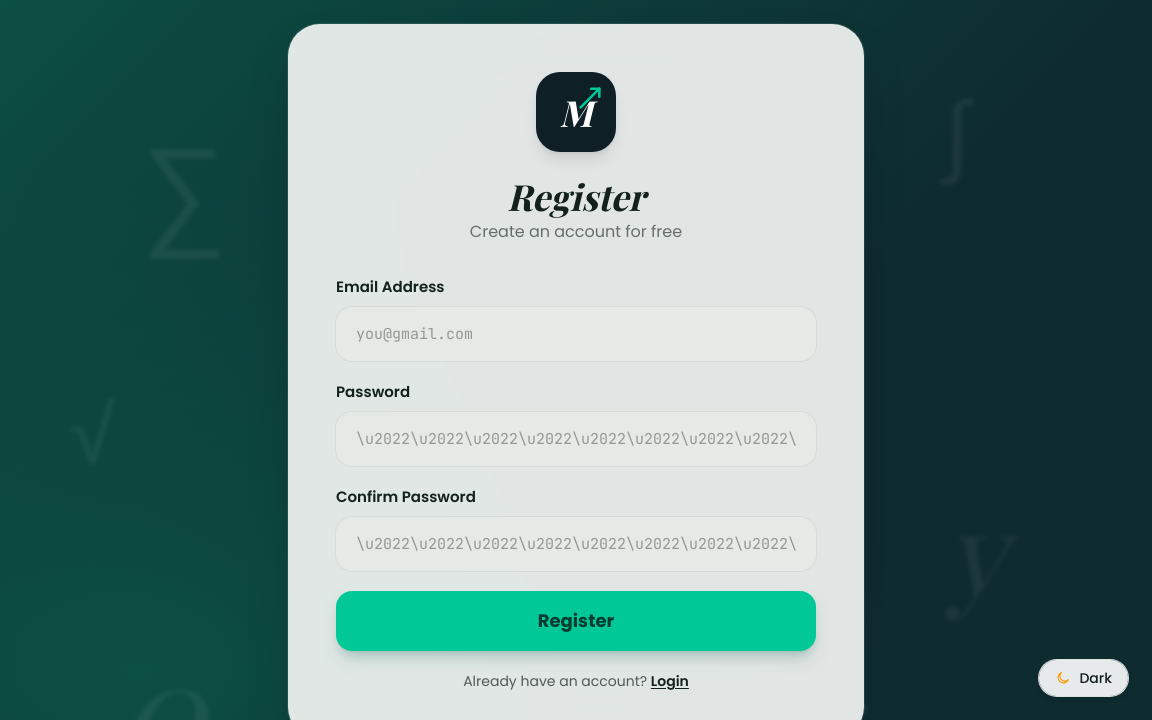
it: Register Page › shows error when password is empty
The width and height of the screenshot is (1152, 720).
Type "test@email.com" into the field labelled "Email Address".
click(576, 334); type("test@email.com")  # box [336,306,816,361]
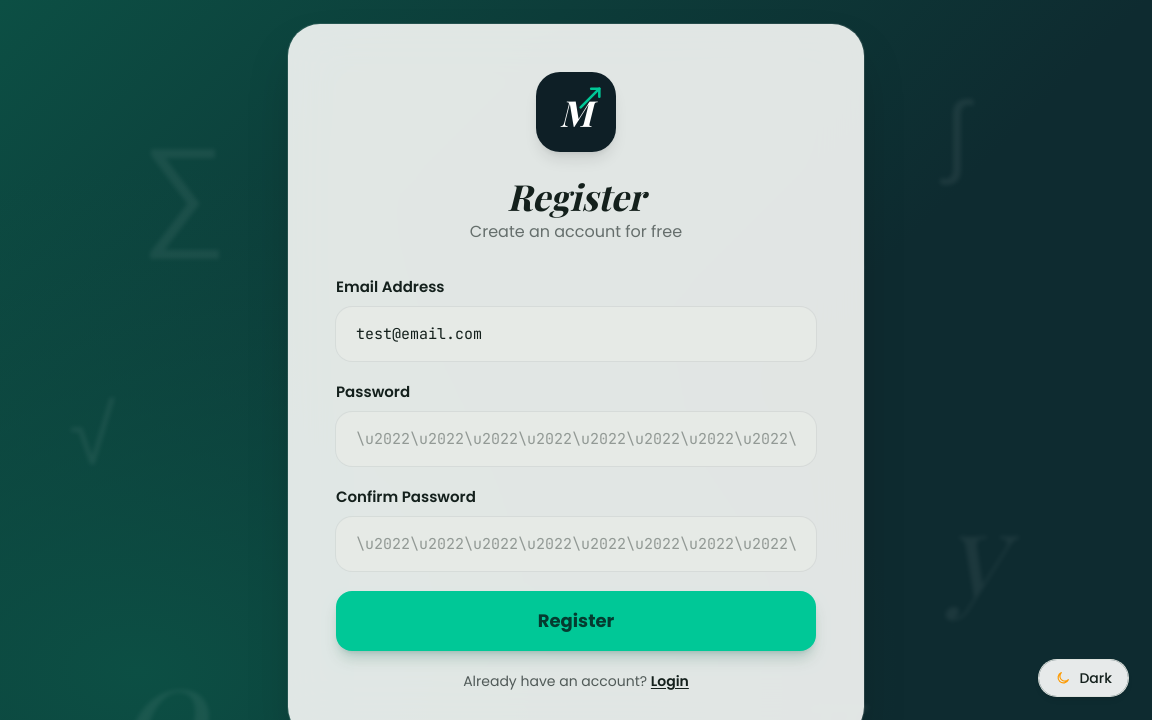
Click the button "Register".
click(576, 621)  # box [336,591,816,651]
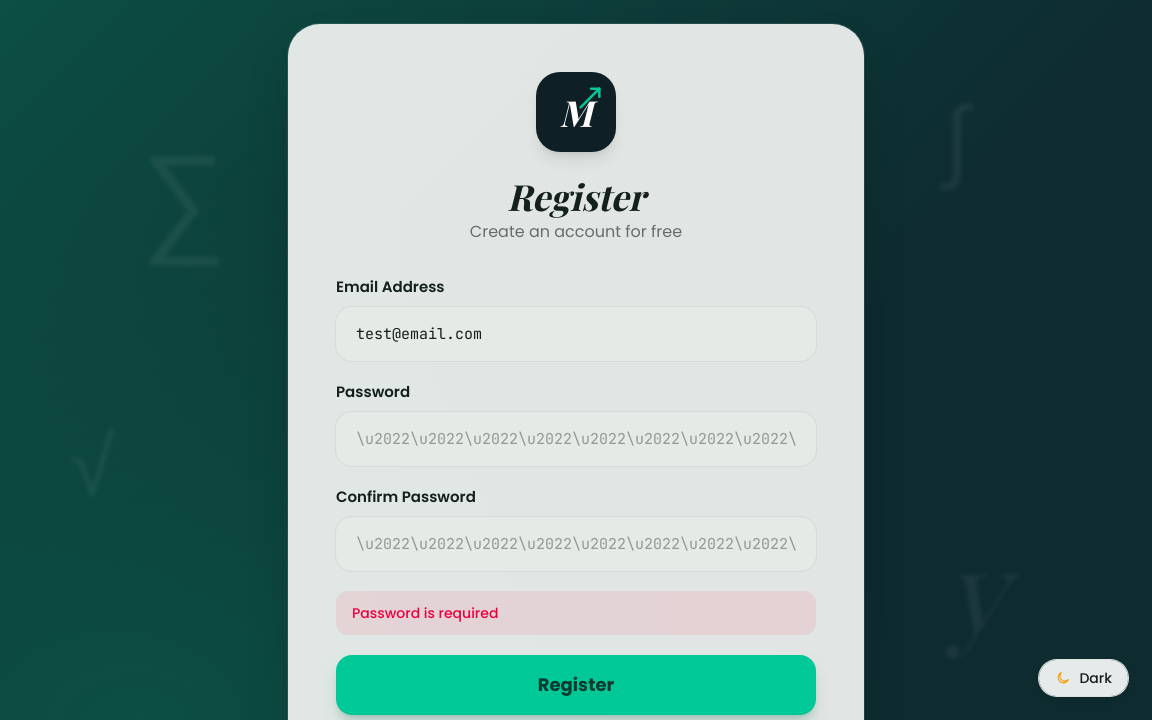
Result: the text "Password is required" is shown at [336,591,816,635]
